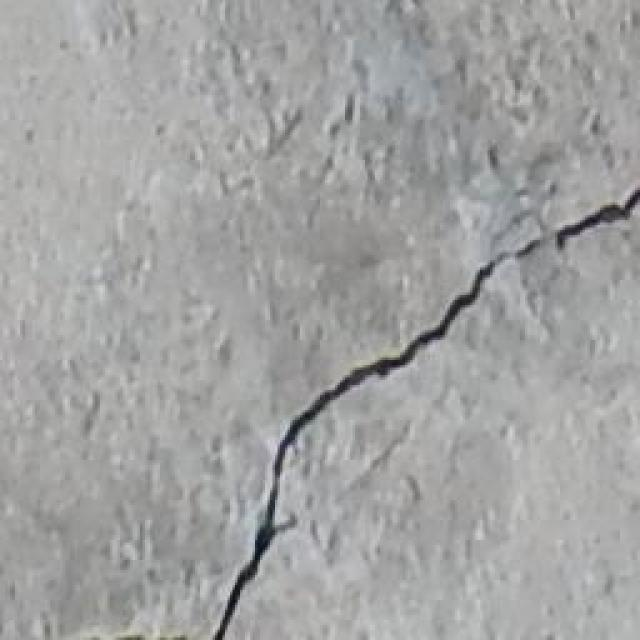concrete-crack: (210, 178, 640, 640)
